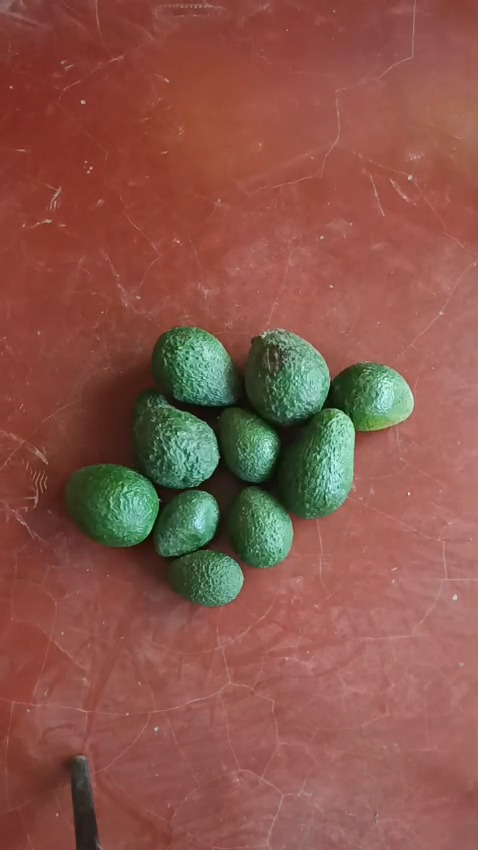Primera: (131, 390, 220, 487), (276, 409, 355, 518), (243, 327, 330, 425), (64, 463, 160, 548), (150, 324, 240, 407)
Segunda: (328, 360, 415, 431), (216, 406, 280, 482)
Tercera: (226, 486, 293, 567), (153, 489, 221, 558), (166, 549, 243, 605)
